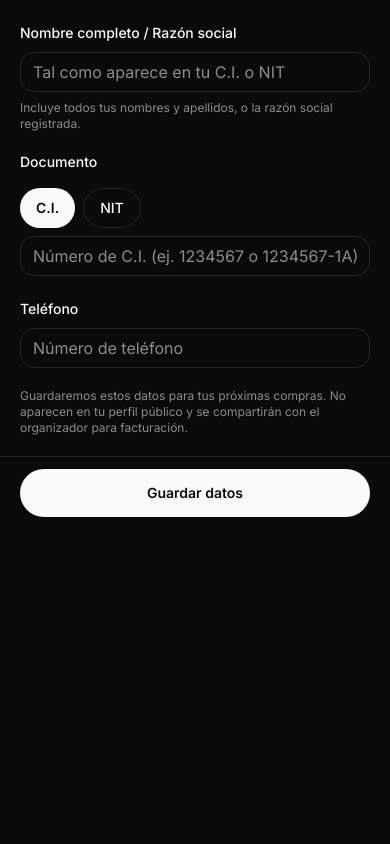
billing capture › does not save when required legal identity is missing
The image size is (390, 844).
Click the button "Guardar datos": x=195, y=493 [20,469,370,517]
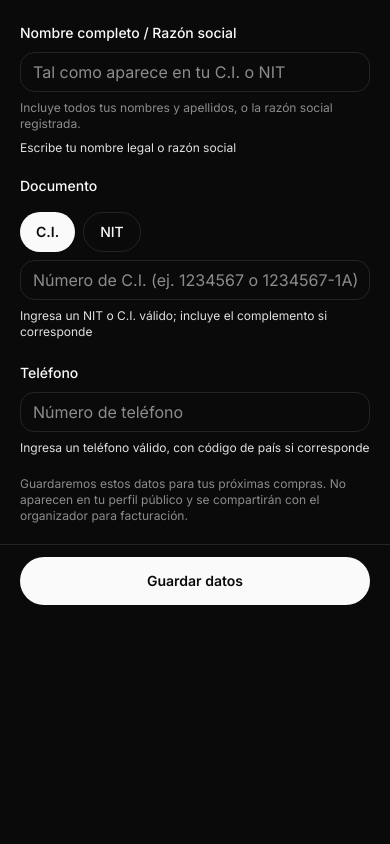
Expected: the number of messages is 3, [20,140,236,155]; [20,308,370,340]; [20,440,370,456]
